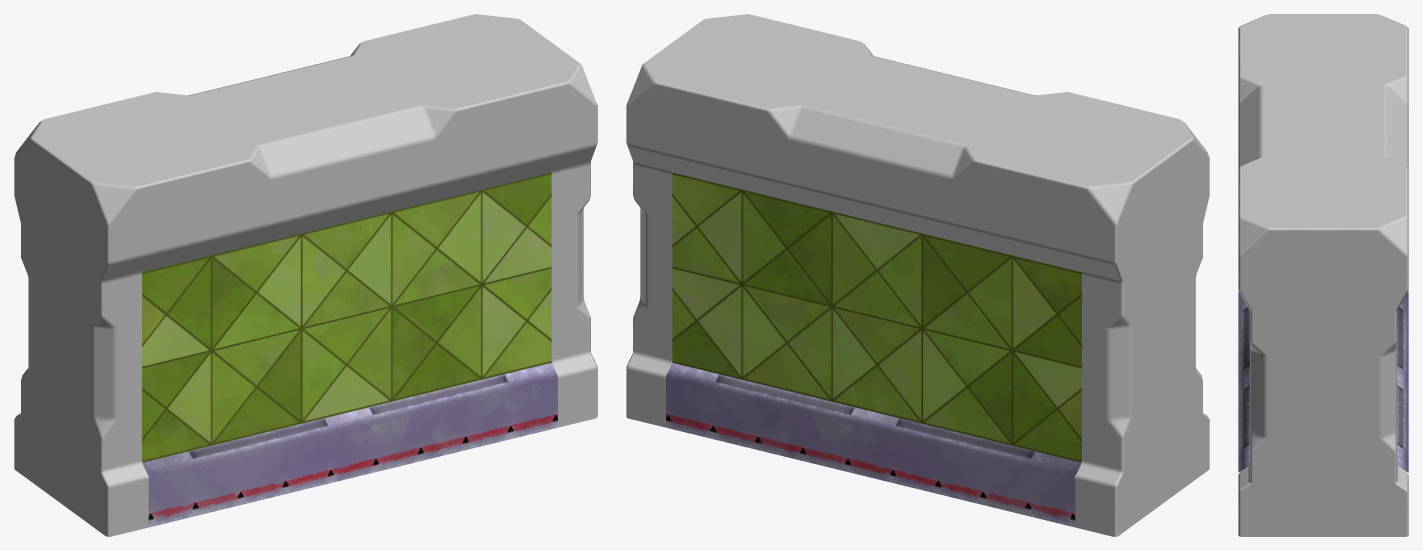
The model's file is SM_SmallWall_Single.fbx.
3 renders of one model, left to right at view 1: azimuth 30°, elevation 25°; view 2: azimuth 150°, elevation 25°; view 3: azimuth 270°, elevation 25°, orthographic. The views are drawn at different scales.
Visible parts, largest first — view 1: SM_SmallWall_Single; view 2: SM_SmallWall_Single; view 3: SM_SmallWall_Single.
Boxes of the visible parts, x1,y1,x2,y2 form: SM_SmallWall_Single: [14, 14, 597, 536]; SM_SmallWall_Single: [626, 14, 1209, 536]; SM_SmallWall_Single: [1238, 14, 1408, 536].
Size of the model in its own units: 600 by 400 by 200.
